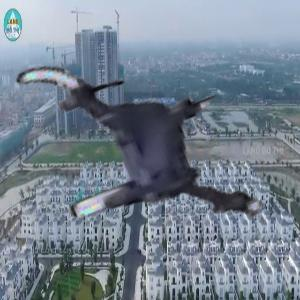drone: (3, 25, 250, 272)
